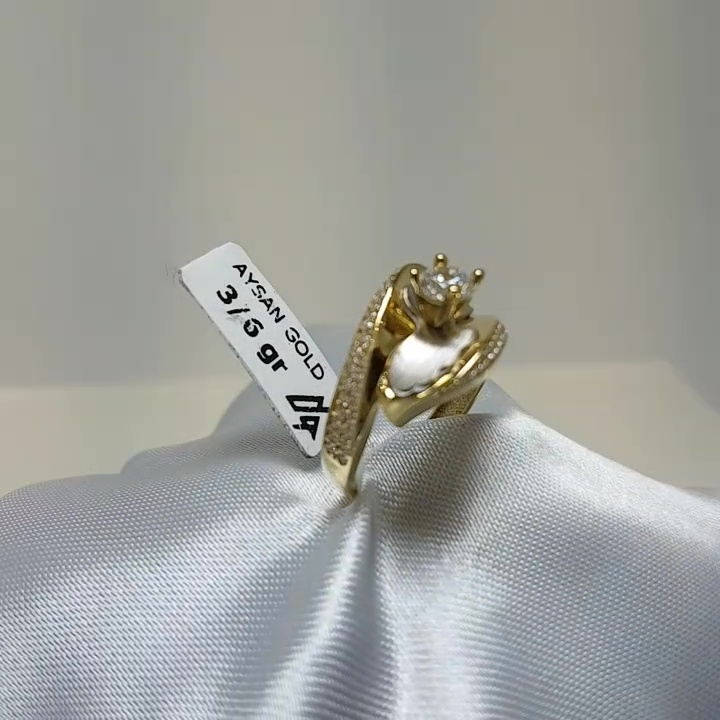Ring 6: (299, 238, 524, 513)
